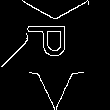P_E: (31, 31, 79, 68)
